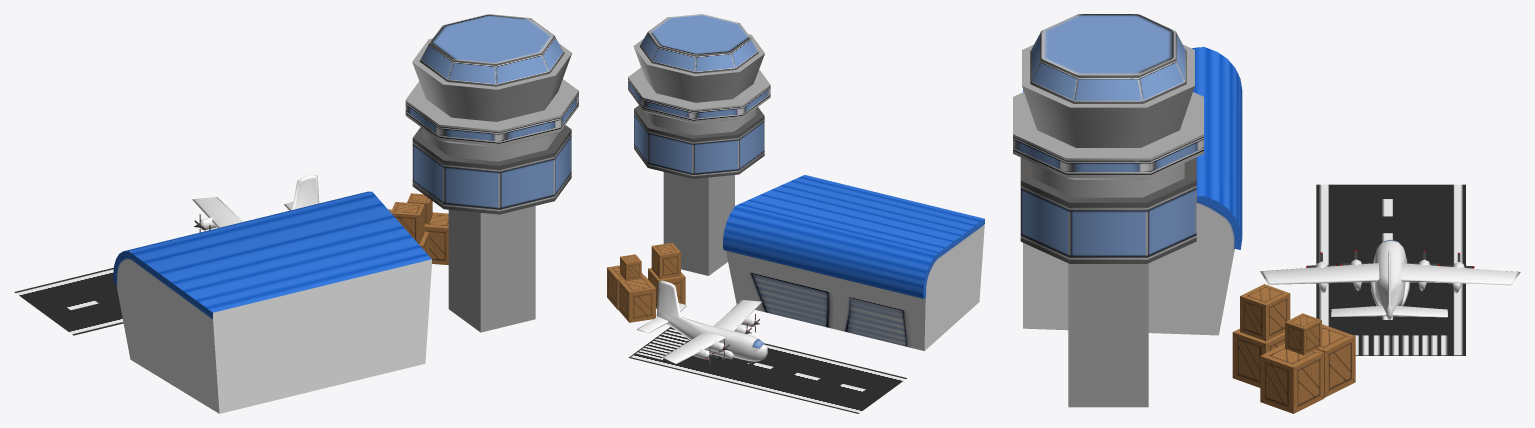
File: CargoAirport.FBX
3 renders of one model, left to right at view 1: azimuth 30°, elevation 25°; view 2: azimuth 150°, elevation 25°; view 3: azimuth 270°, elevation 25°, orthographic. The views are drawn at different scales.
Parts seen in each view (by area): view 1: Plane001; view 2: Plane001; view 3: Plane001.
Part boxes in pixels (x1,y1,x2,y2): Plane001: (14, 14, 578, 413); Plane001: (607, 14, 984, 413); Plane001: (1013, 14, 1520, 413).
Bounding box in the file's own units: 99.25 × 64.37 × 85.67.
